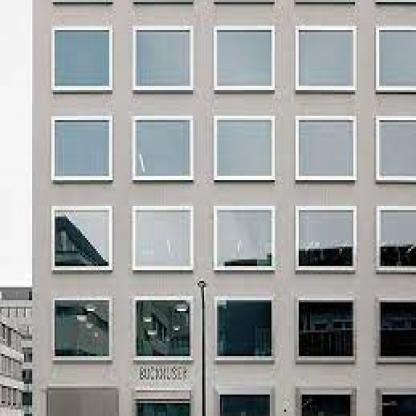window: (53, 26, 112, 88), (216, 116, 274, 178), (53, 298, 111, 358), (297, 118, 357, 176), (133, 210, 193, 266), (136, 298, 192, 358), (217, 28, 273, 88), (218, 298, 273, 358), (53, 210, 111, 266), (299, 300, 355, 358), (135, 28, 191, 86), (54, 118, 110, 176), (135, 120, 193, 176), (217, 208, 271, 268), (299, 210, 355, 266), (299, 30, 355, 86), (379, 210, 414, 270), (379, 30, 414, 88), (379, 120, 414, 176), (381, 302, 414, 360), (218, 394, 272, 414), (302, 394, 350, 414), (382, 392, 414, 414), (137, 403, 191, 414)
